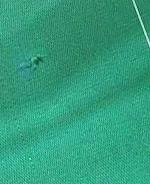knot: (20, 51, 48, 74)
